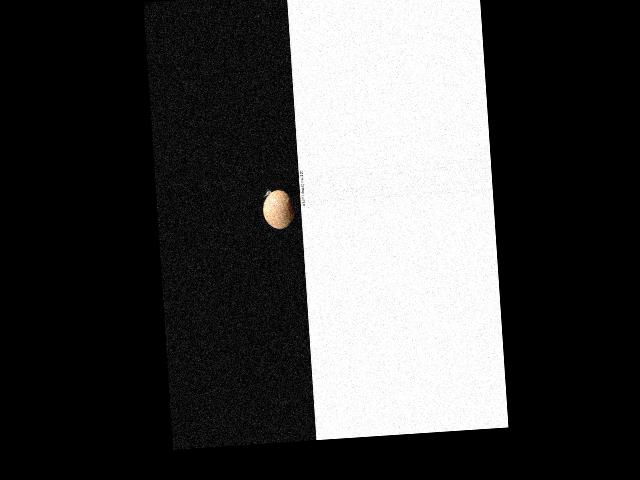egg: (262, 189, 295, 230)
